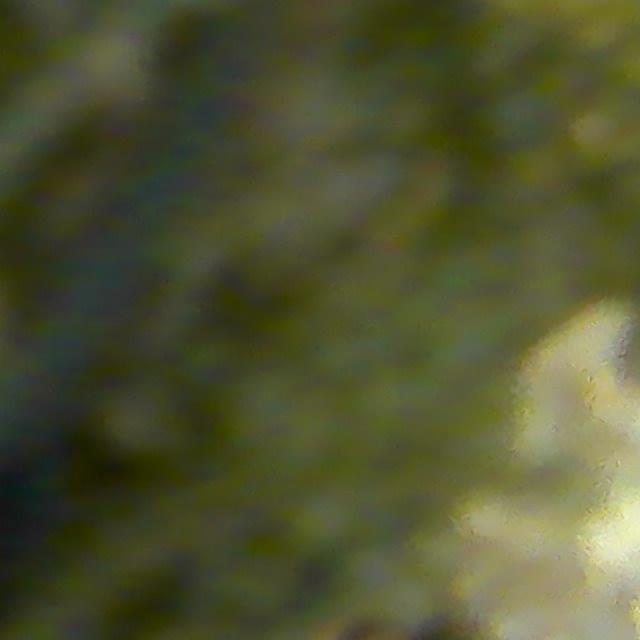SeaGrape: (99, 380, 190, 465)
